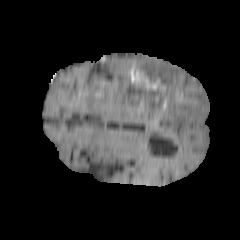glioma: (94, 55, 187, 129)
